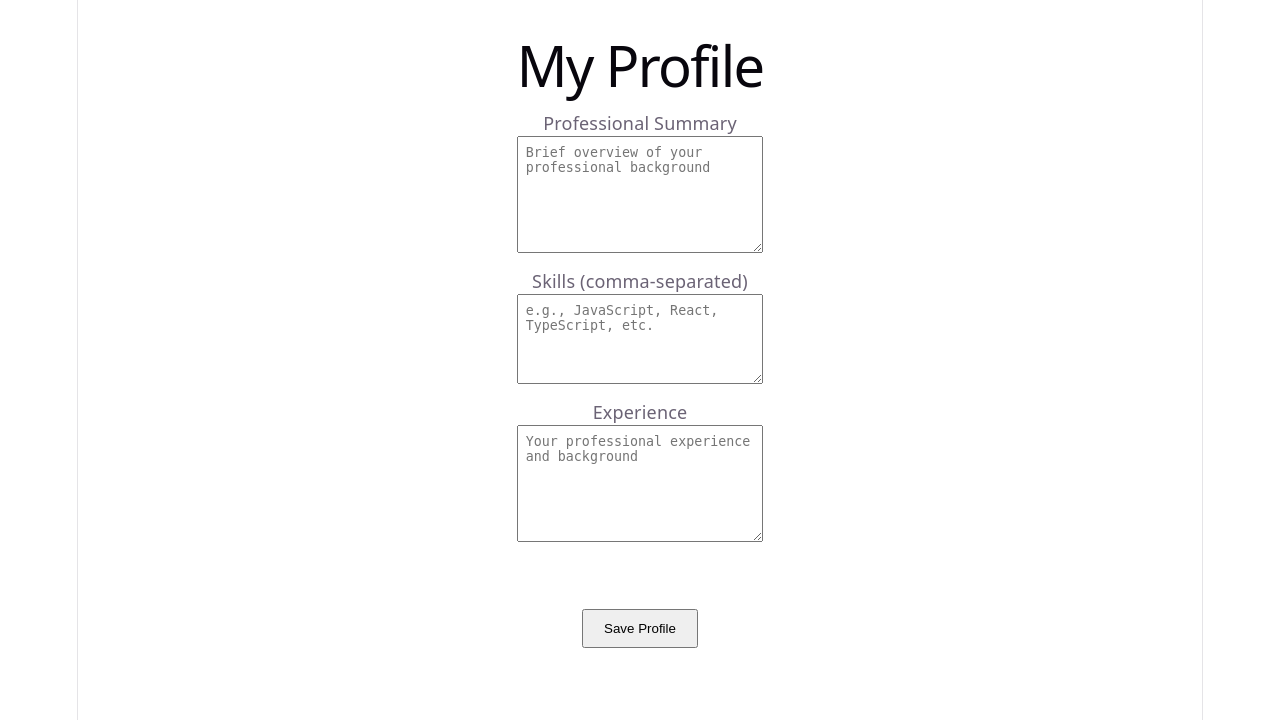
Scenario: profile-first workflow gate › unlocks and navigates to jobs after the first profile save
The width and height of the screenshot is (1280, 720).
Expected: the heading "My Profile" is shown, [517,52,763,78]
Type "Summary" into the text box labelled "Professional Summary".
click(640, 195); type("Summary")  # box [517,136,763,253]
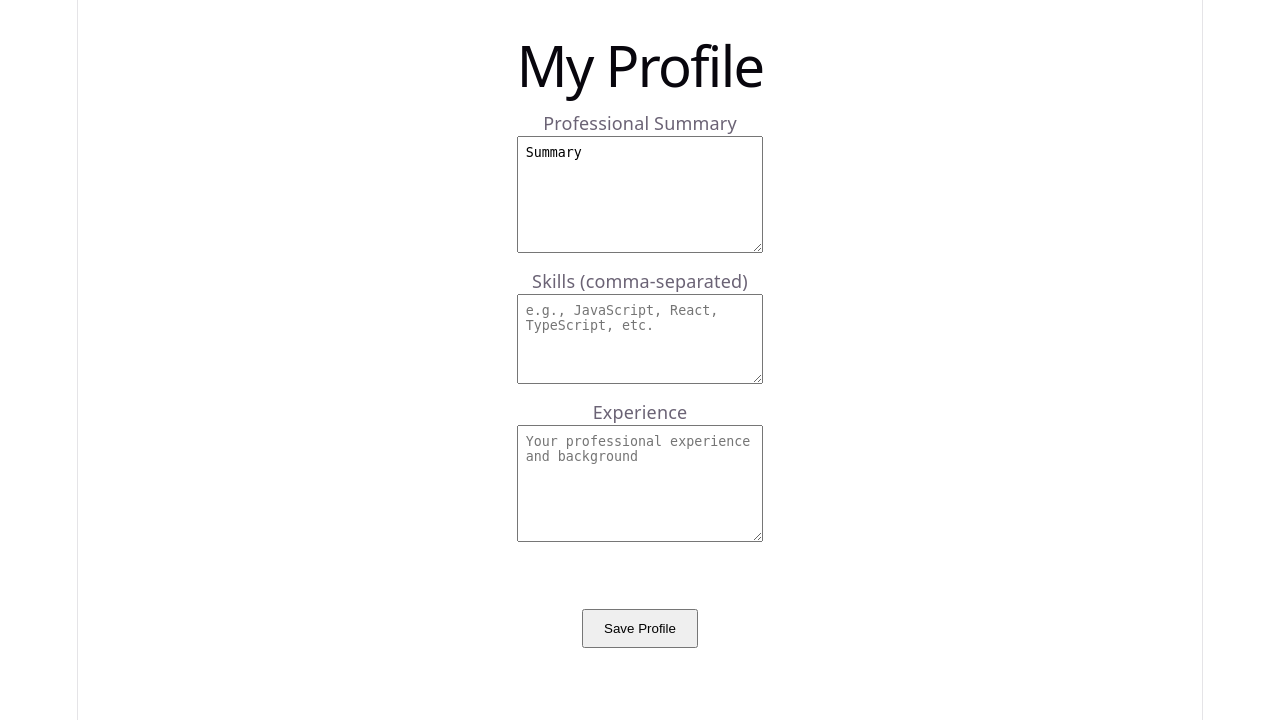
Type "React" into the text box labelled "Skills (comma-separated)".
click(640, 339); type("React")  # box [517,294,763,384]
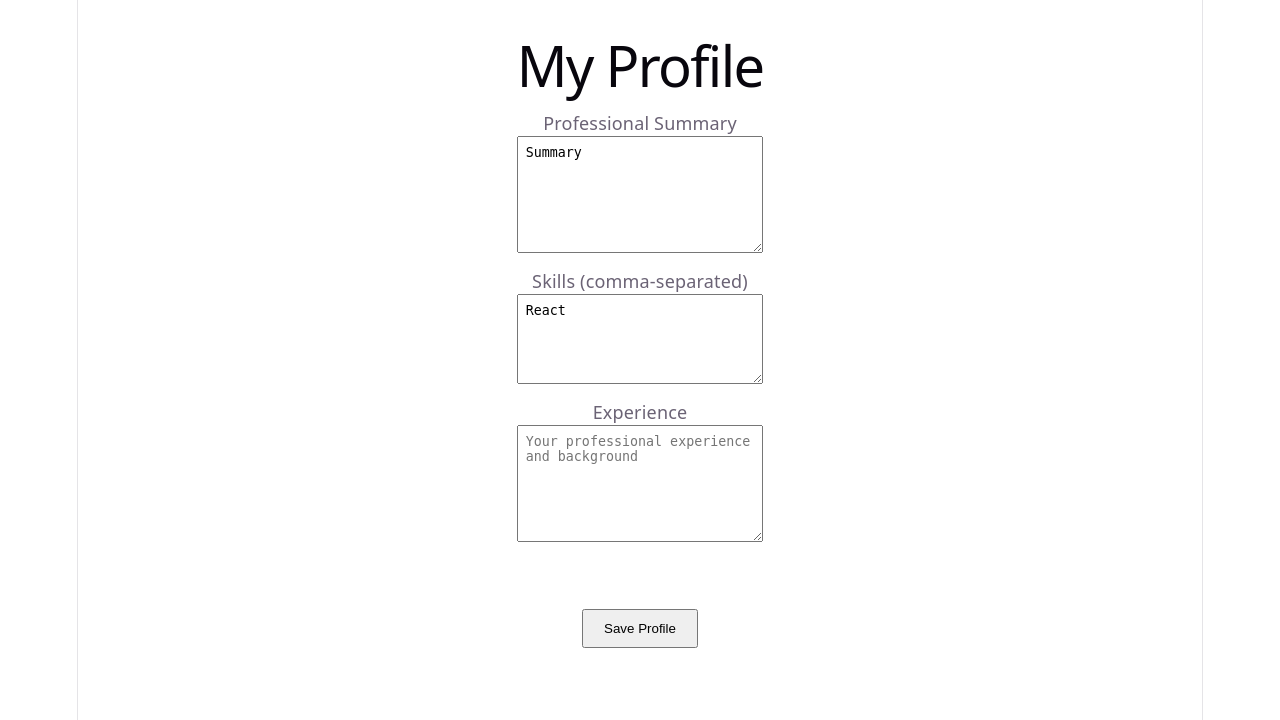
Type "Engineer" into the text box labelled "Experience".
click(640, 484); type("Engineer")  # box [517,425,763,542]
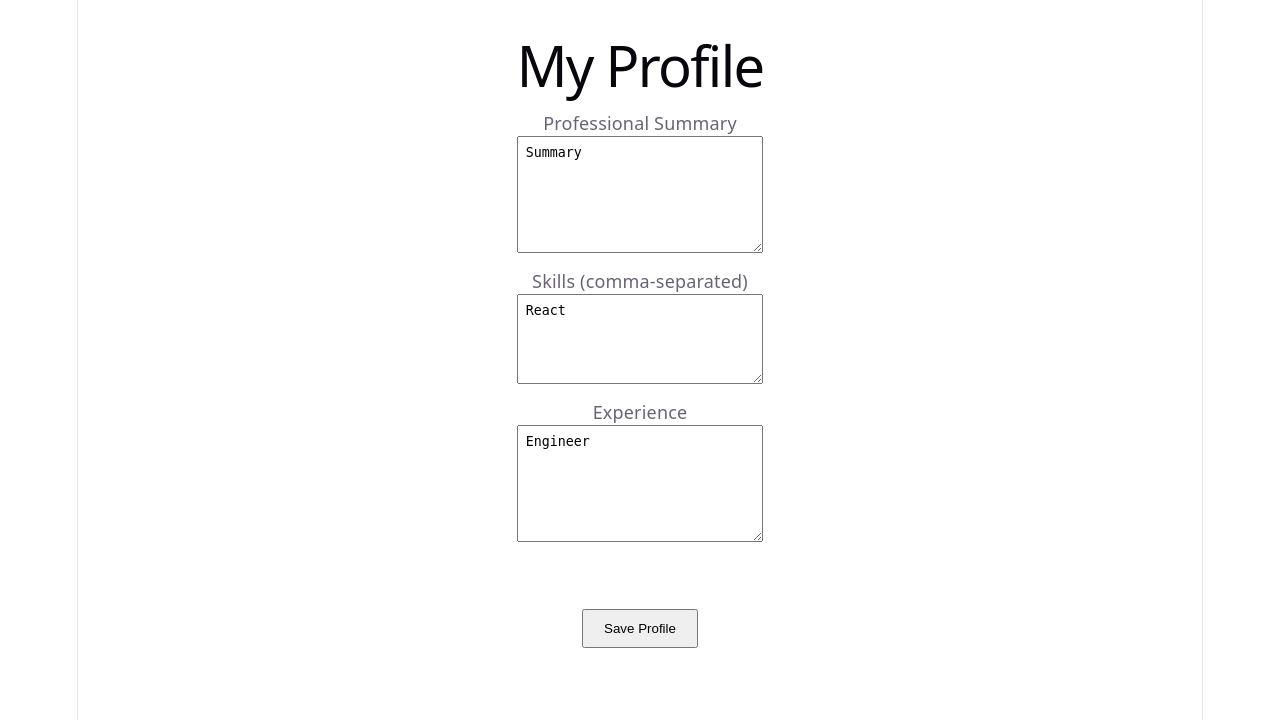
Click the button "Save Profile".
click(640, 629)  # box [582,609,698,648]
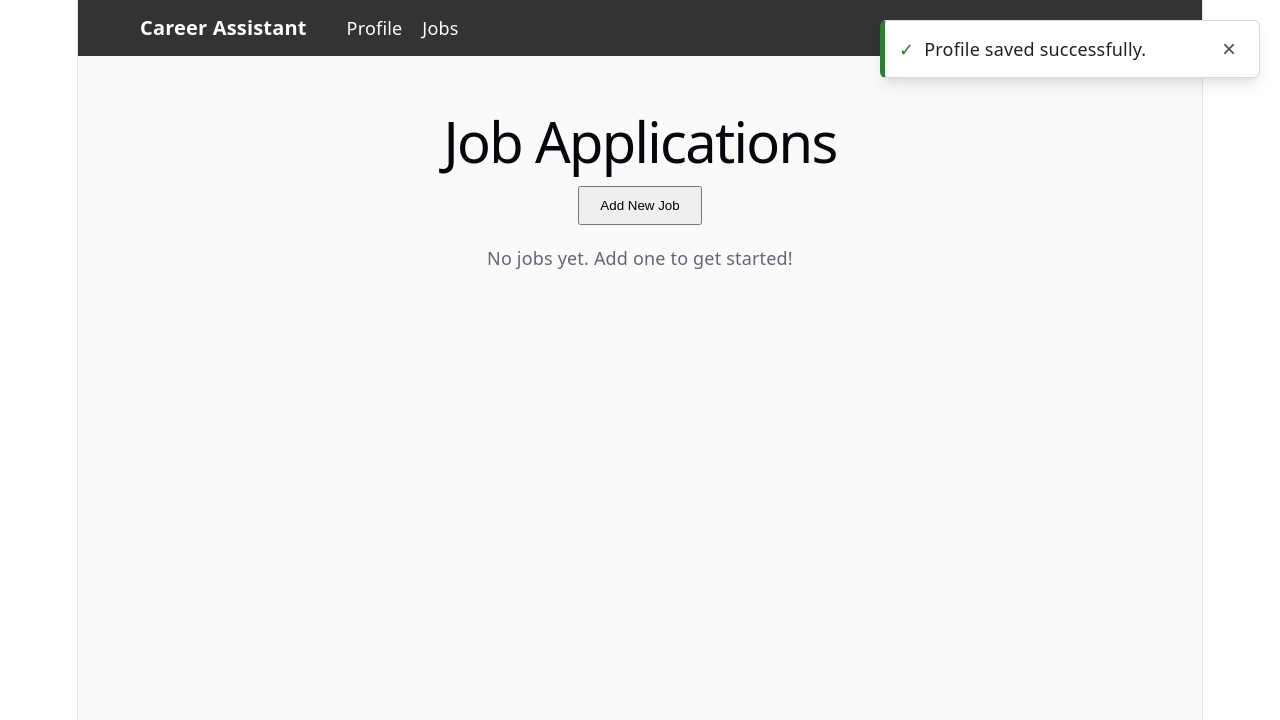
Now the heading "Job Applications" is shown, box [443,103,836,179]
Now the link "Jobs" is shown, box [422,15,459,41]
